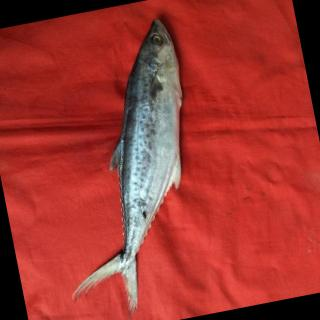Ikan: (22, 2, 239, 320)
